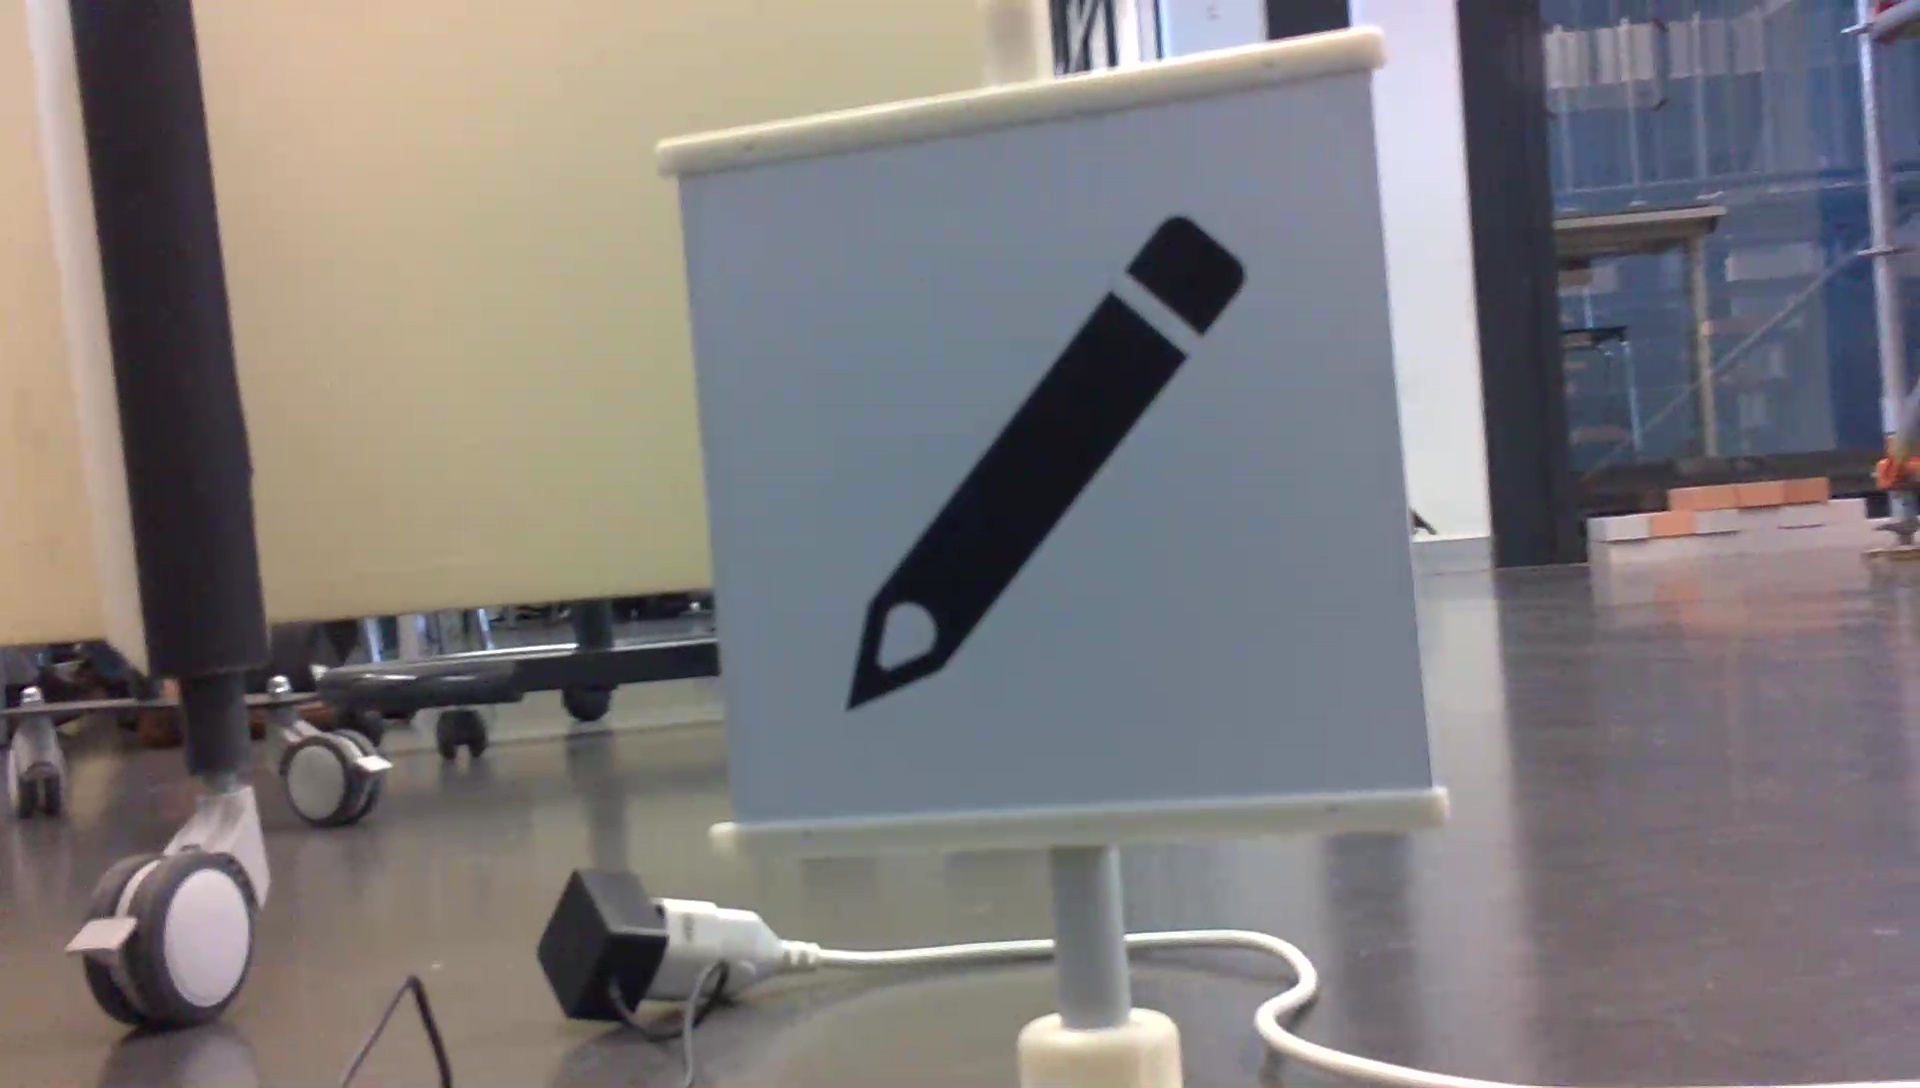pencil: (824, 200, 1261, 721)
